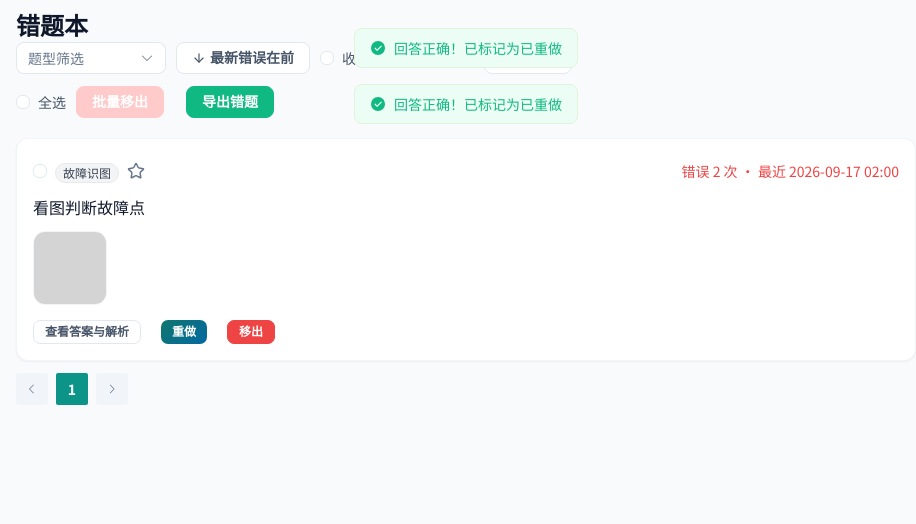
Test: WrongQuestions 卡片展示补齐（#1077） › 折叠态「查看答案与解析」：默认收起 → 展开显示我的答案/正确答案/解析 → 再点收起
Expected: the text "液压油路堵塞" is not shown
What coordinates should you click on to do the following:
click the button "查看答案与解析"
I would click on:
 (87, 332)
Its box is x1=33 y1=320 x2=141 y2=344.
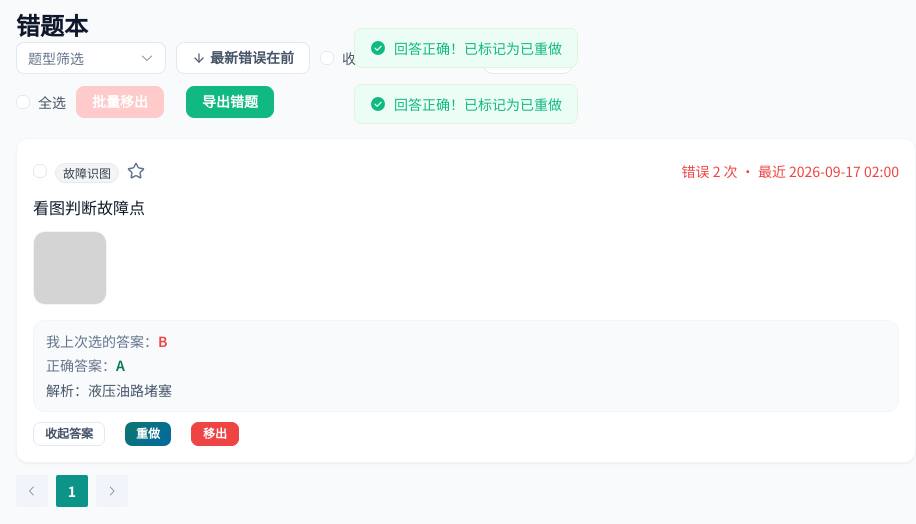
Expected: the text "我上次选的答案：B" is shown, x1=46 y1=331 x2=167 y2=351
Expected: the text "正确答案：A" is shown, x1=46 y1=355 x2=125 y2=375
Expected: the text "液压油路堵塞" is shown, x1=46 y1=380 x2=172 y2=400
What coordinates should you click on to do the following:
click the button "收起答案"
I would click on:
 (69, 434)
Its box is x1=33 y1=422 x2=105 y2=446.
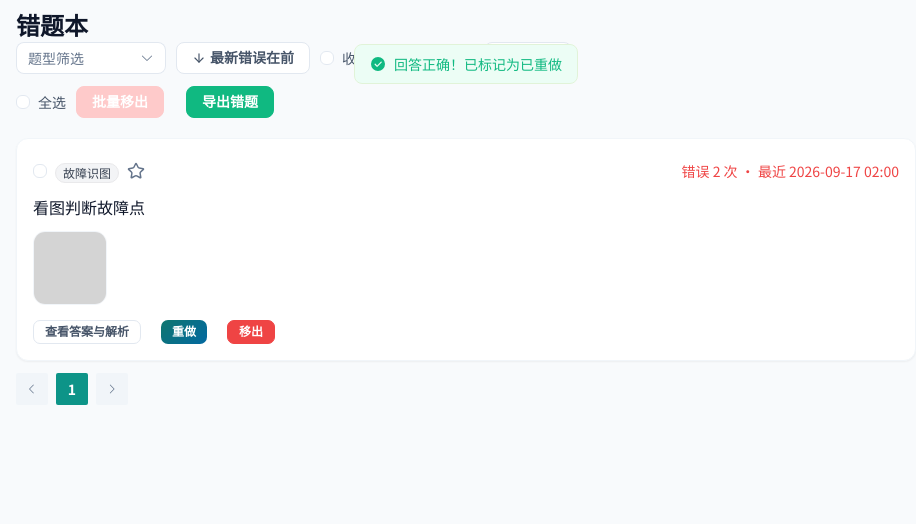
Expected: the text "液压油路堵塞" is gone
